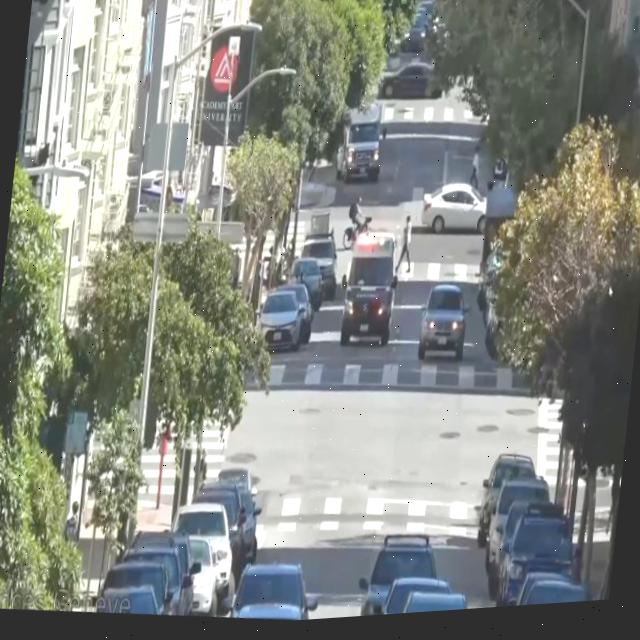emergency: (337, 233, 401, 354)
